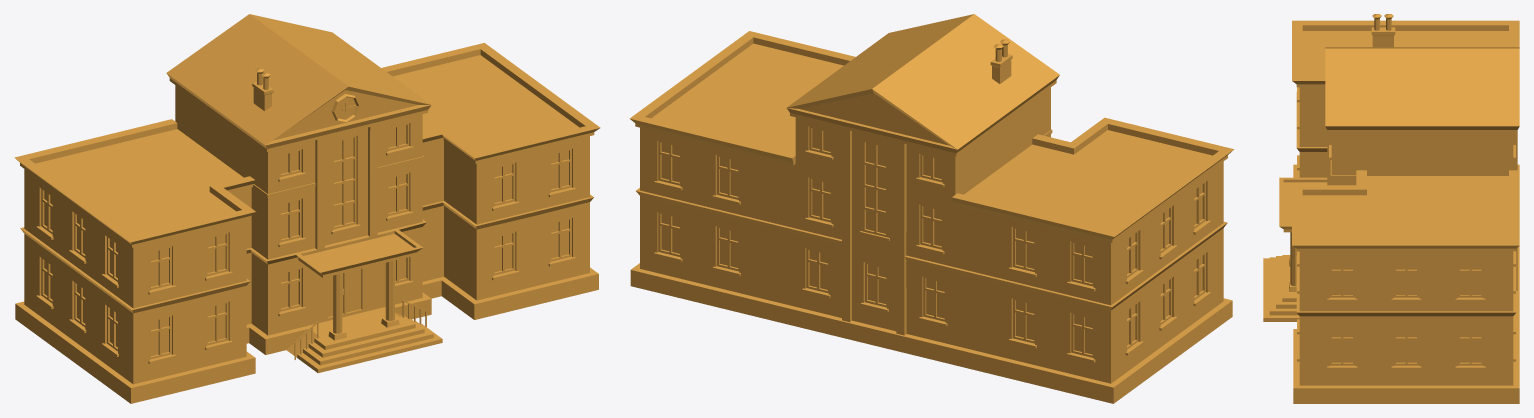
File: building-school.fbx
3 views of the same model, side by side, from view 1: azimuth 30°, elevation 25°; view 2: azimuth 150°, elevation 25°; view 3: azimuth 270°, elevation 25° (orthographic). The views are drawn at different scales.
Parts seen in each view (by area): view 1: building-school; view 2: building-school; view 3: building-school.
Part boxes in pixels (x1,y1,x2,y2): building-school: [14, 14, 600, 403]; building-school: [629, 14, 1233, 403]; building-school: [1263, 14, 1519, 403].
Size of the model in its own units: 24.9 by 12.97 by 12.01.
